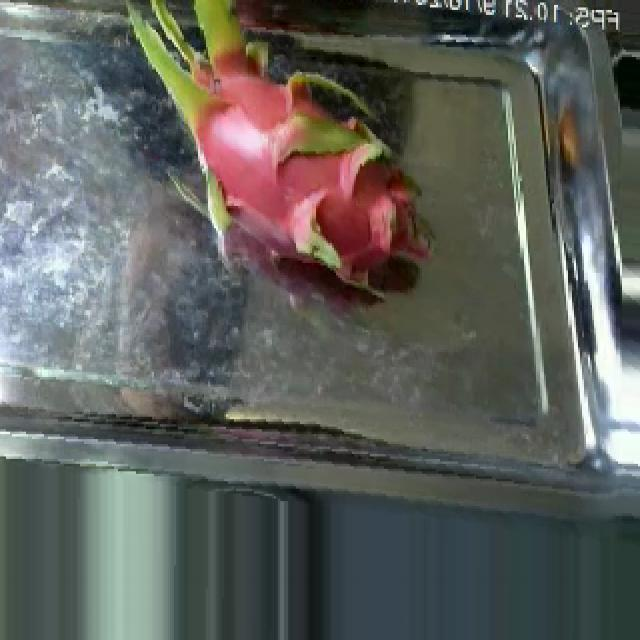fruit: (106, 0, 458, 318)
